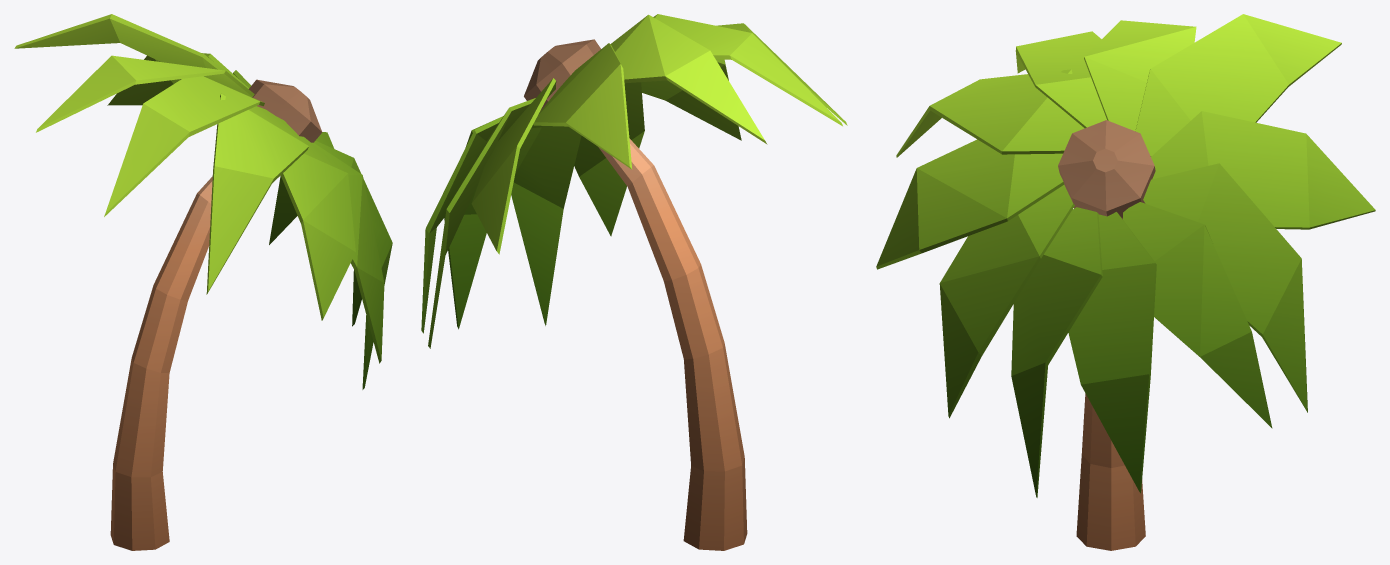
The model's file is Tree.Palm.glb.
3 views of the same model, side by side, from view 1: azimuth 30°, elevation 25°; view 2: azimuth 150°, elevation 25°; view 3: azimuth 270°, elevation 25° (orthographic). The views are drawn at different scales.
Visible parts, largest first — view 1: Cube; view 2: Cube; view 3: Cube.
Boxes of the visible parts, x1,y1,x2,y2 form: Cube: [14, 14, 392, 550]; Cube: [421, 14, 847, 550]; Cube: [876, 14, 1375, 550].
Bounding box in the file's own units: 5.59 × 8.1 × 6.8.
1 material, 1 textured.
